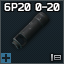AK-74 5.45x39 muzzle brake & compensator 6P20 0-20: (0, 0, 64, 64)
